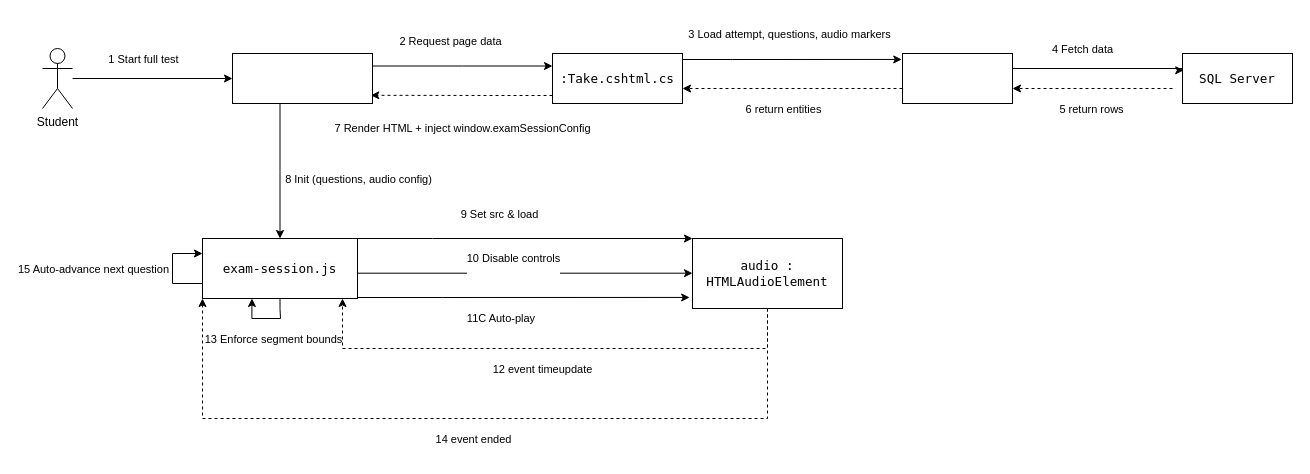
The diagram is 1310 pixels wide and 474 high, and some of its shapes have lost their labels. The centre of each missing label's shape, as x and y in pixels:
":IAppDbContext" goes at point (957, 78).
":Take.cshtml" goes at point (302, 78).
